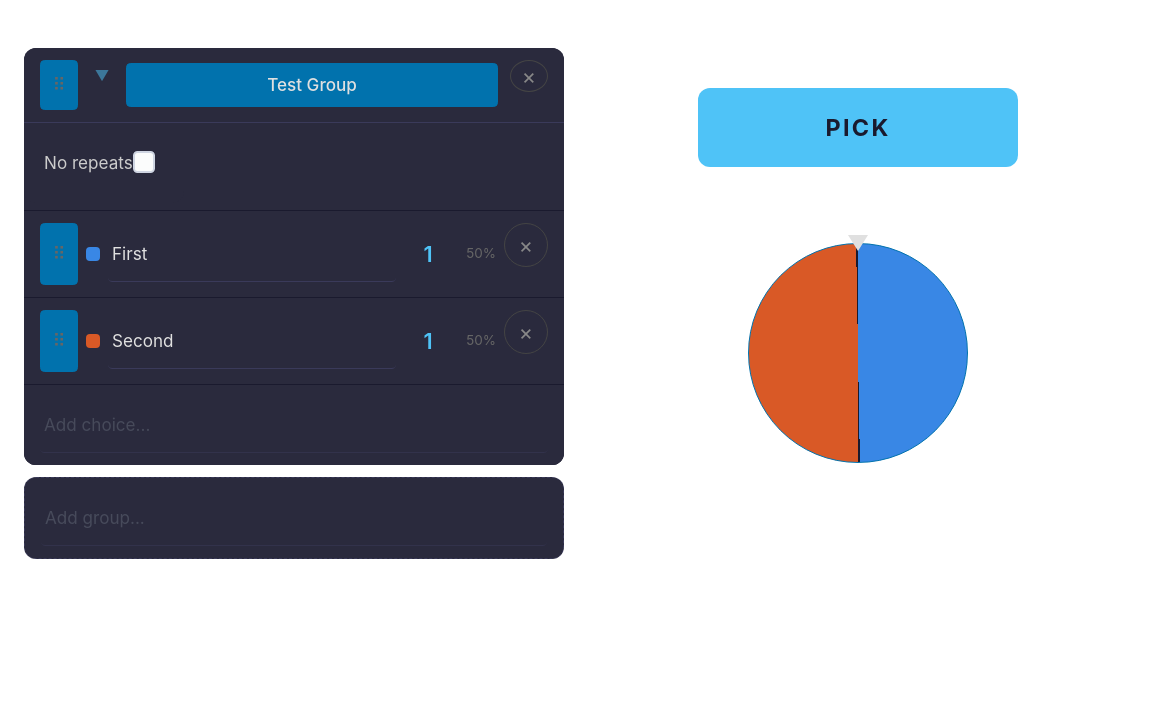
Test case: WeightedChoices grouped structure › Spinner › picks when the wheel itself is clicked
This screenshot has width=1152, height=720.
Step 1. Click the button named "Spin the wheel" → click(858, 353), box [748, 243, 968, 463]
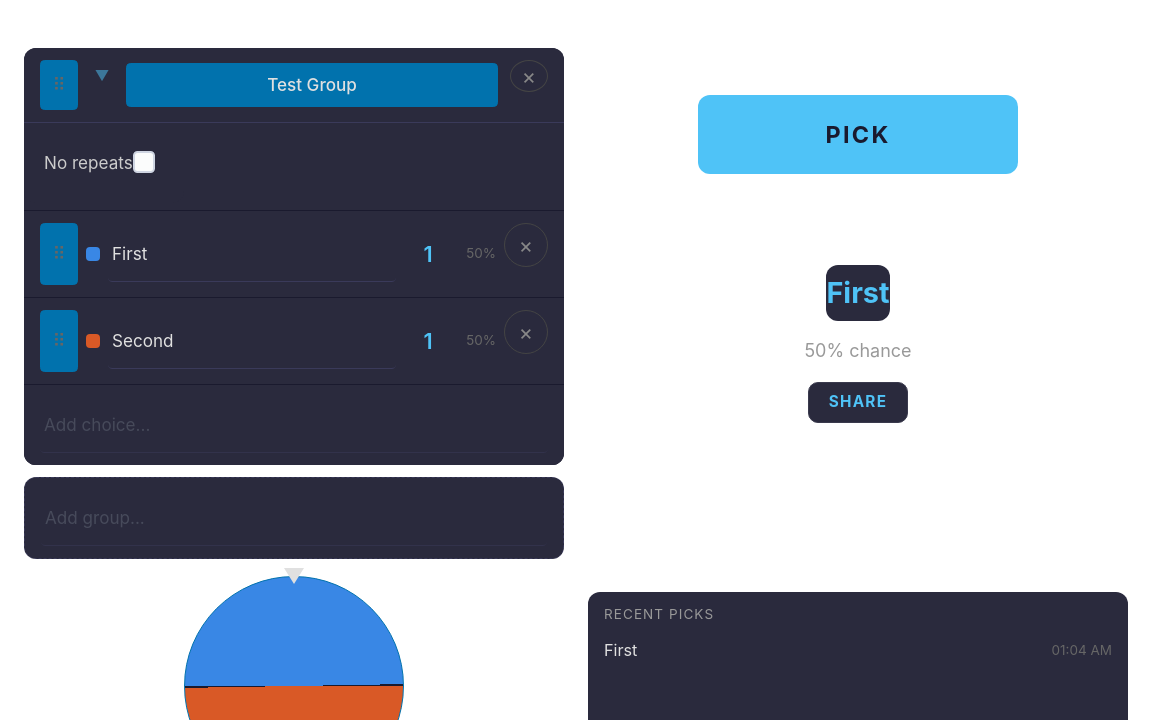
Check: the text "50% chance" is shown, box [804, 340, 912, 361]
